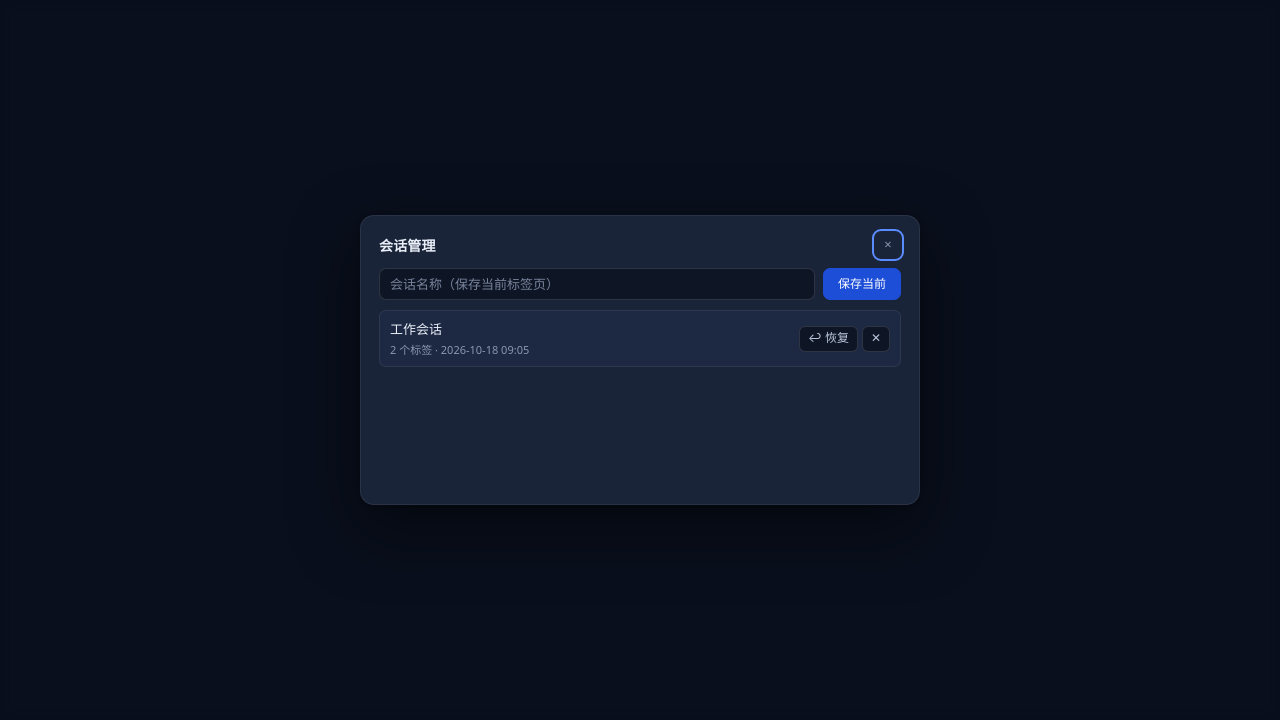
it: SessionDialog · 删除（内层确认弹窗） › 点 ✕ 弹确认框：描述含会话名；外层关闭后未确认即不删
Click the button with class "danger".
click(876, 339)  # box left=862, top=326, right=890, bottom=352
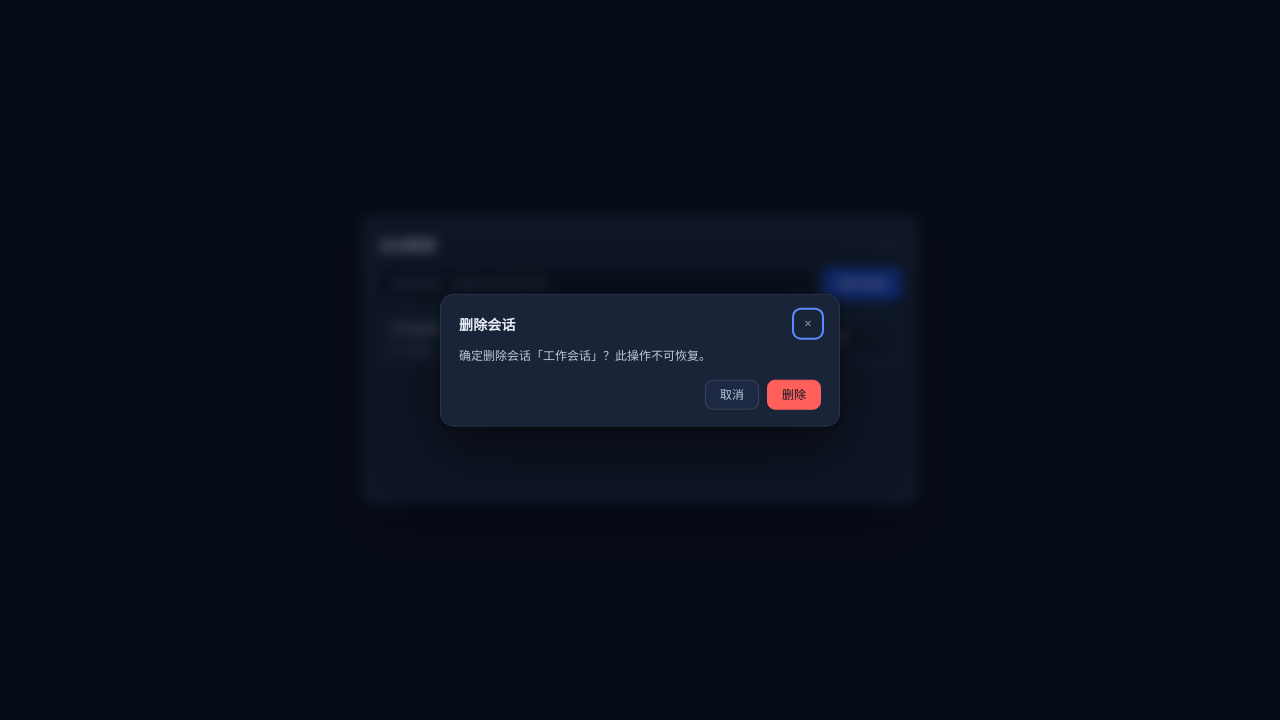
Check: the text with class "ui-dialog-desc" shows "工作会话", box left=459, top=347, right=711, bottom=364
